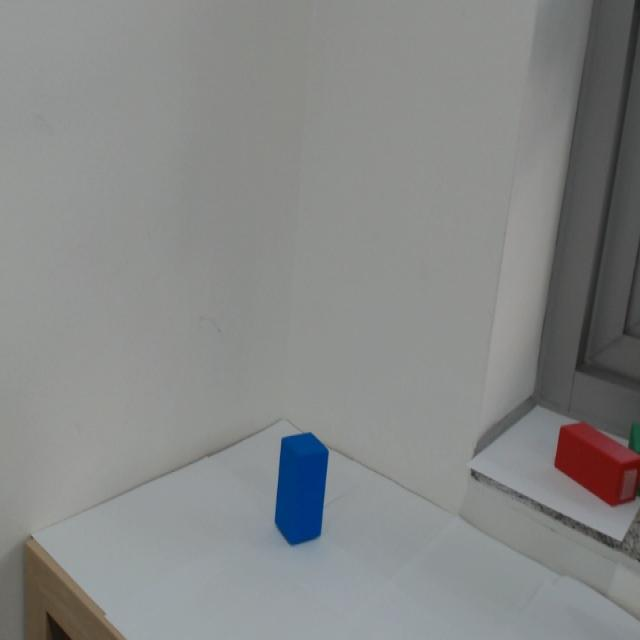cube: (255, 411, 350, 557)
